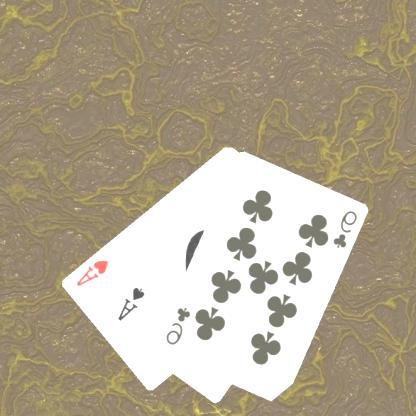9C: (164, 304, 194, 347), (331, 207, 360, 250)
AH: (75, 256, 112, 288)
AS: (116, 284, 148, 322)
